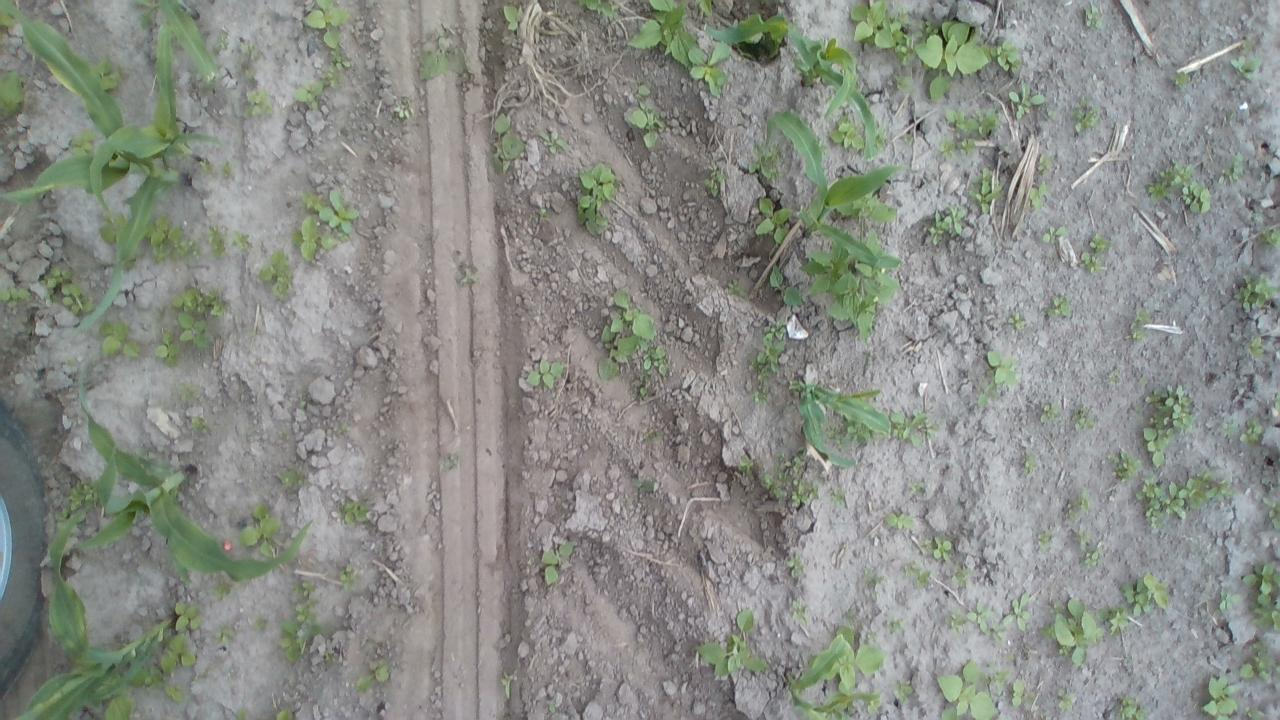Maize: (79, 360, 312, 578), (0, 0, 190, 212), (88, 19, 216, 332), (15, 507, 178, 720), (702, 13, 876, 155), (762, 110, 908, 270), (785, 638, 885, 720), (798, 380, 894, 465), (158, 1, 218, 80)
Weeds: (803, 229, 900, 338), (916, 18, 988, 102), (1134, 471, 1232, 528), (597, 288, 657, 379), (697, 607, 766, 680), (1040, 594, 1102, 666), (741, 448, 817, 506), (932, 654, 998, 720), (819, 624, 886, 689), (628, 0, 695, 63), (1144, 383, 1192, 468), (854, 1, 910, 62), (575, 160, 617, 236), (1242, 559, 1280, 635), (754, 318, 787, 400), (686, 40, 731, 94), (242, 502, 284, 558), (418, 34, 470, 79), (148, 215, 195, 264), (46, 266, 91, 316), (294, 216, 341, 262), (304, 0, 348, 49), (1120, 574, 1168, 614), (320, 188, 360, 236), (258, 246, 292, 302), (491, 114, 523, 172), (1200, 674, 1240, 720), (890, 412, 939, 448), (628, 106, 664, 154), (925, 204, 968, 242), (1234, 272, 1277, 310), (173, 286, 225, 317), (858, 194, 904, 228), (1149, 164, 1195, 198), (949, 598, 990, 636), (1240, 642, 1279, 680), (751, 196, 788, 236), (973, 160, 1000, 214), (945, 106, 997, 134), (986, 349, 1021, 390), (100, 322, 138, 358), (162, 632, 197, 671), (990, 36, 1024, 76), (542, 542, 575, 582), (176, 310, 212, 346), (1, 68, 26, 119), (525, 360, 566, 390), (750, 144, 786, 178), (1010, 84, 1044, 118), (1106, 450, 1142, 481), (832, 118, 864, 152), (1004, 592, 1032, 630), (1218, 150, 1246, 187), (537, 130, 575, 157), (1124, 311, 1154, 345), (280, 623, 302, 666), (356, 663, 388, 692), (703, 166, 729, 201), (99, 57, 128, 88), (902, 560, 935, 587), (128, 667, 168, 689), (174, 600, 203, 630), (102, 210, 126, 246), (154, 330, 181, 362), (246, 85, 270, 121), (296, 82, 324, 112), (643, 350, 672, 378), (1182, 185, 1210, 213), (106, 693, 135, 720), (949, 564, 976, 592), (923, 536, 952, 562), (1231, 55, 1261, 80), (1076, 99, 1102, 127), (294, 598, 322, 624), (1240, 417, 1266, 444), (208, 225, 228, 260), (887, 512, 918, 534), (582, 0, 622, 17), (278, 471, 312, 491), (1069, 488, 1094, 514), (1110, 610, 1132, 638), (1048, 296, 1072, 321), (300, 187, 324, 212), (788, 594, 811, 620), (72, 483, 94, 510), (68, 134, 97, 154), (1077, 250, 1103, 272), (341, 499, 368, 520), (1264, 497, 1280, 532), (1121, 697, 1145, 720), (1090, 234, 1116, 255), (338, 557, 358, 584), (0, 288, 33, 304), (1030, 185, 1048, 214), (1040, 401, 1062, 424), (502, 670, 518, 701), (332, 45, 351, 71), (504, 4, 522, 31), (788, 556, 810, 578), (176, 380, 202, 398), (977, 383, 993, 412), (1249, 336, 1266, 363), (1259, 227, 1280, 248), (1217, 590, 1238, 611), (848, 422, 872, 440), (1012, 674, 1025, 707), (864, 569, 889, 586), (1073, 530, 1094, 550), (218, 626, 238, 647), (892, 681, 914, 700), (1072, 409, 1094, 428), (1021, 453, 1037, 479), (1056, 692, 1076, 712), (232, 231, 255, 248), (1042, 227, 1068, 242), (632, 478, 656, 494), (939, 140, 958, 160), (1082, 552, 1102, 570), (1, 10, 18, 31), (829, 426, 846, 447), (1036, 530, 1058, 546), (889, 616, 907, 635), (394, 104, 416, 119), (166, 685, 184, 703), (1007, 312, 1025, 330), (1086, 12, 1106, 28), (828, 488, 848, 504), (1038, 156, 1055, 174), (989, 626, 1008, 642), (322, 72, 339, 89), (216, 578, 232, 596), (216, 28, 229, 50), (1172, 69, 1188, 86), (726, 278, 744, 292), (296, 584, 316, 596), (241, 41, 256, 56), (958, 138, 974, 152), (1246, 708, 1264, 720), (218, 161, 232, 176), (910, 481, 926, 494), (191, 418, 208, 429), (274, 710, 292, 720), (255, 619, 268, 632), (324, 650, 336, 664), (995, 670, 1009, 682), (310, 624, 324, 636), (238, 709, 252, 720), (1272, 394, 1280, 411), (641, 387, 652, 398), (57, 510, 69, 520), (339, 422, 349, 432), (547, 702, 557, 712)
